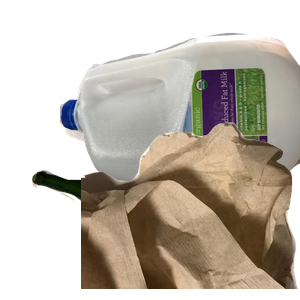glass: (29, 167, 241, 300)
paper: (63, 61, 242, 206)
plastic: (60, 30, 300, 210)
trash: (81, 120, 300, 300)
